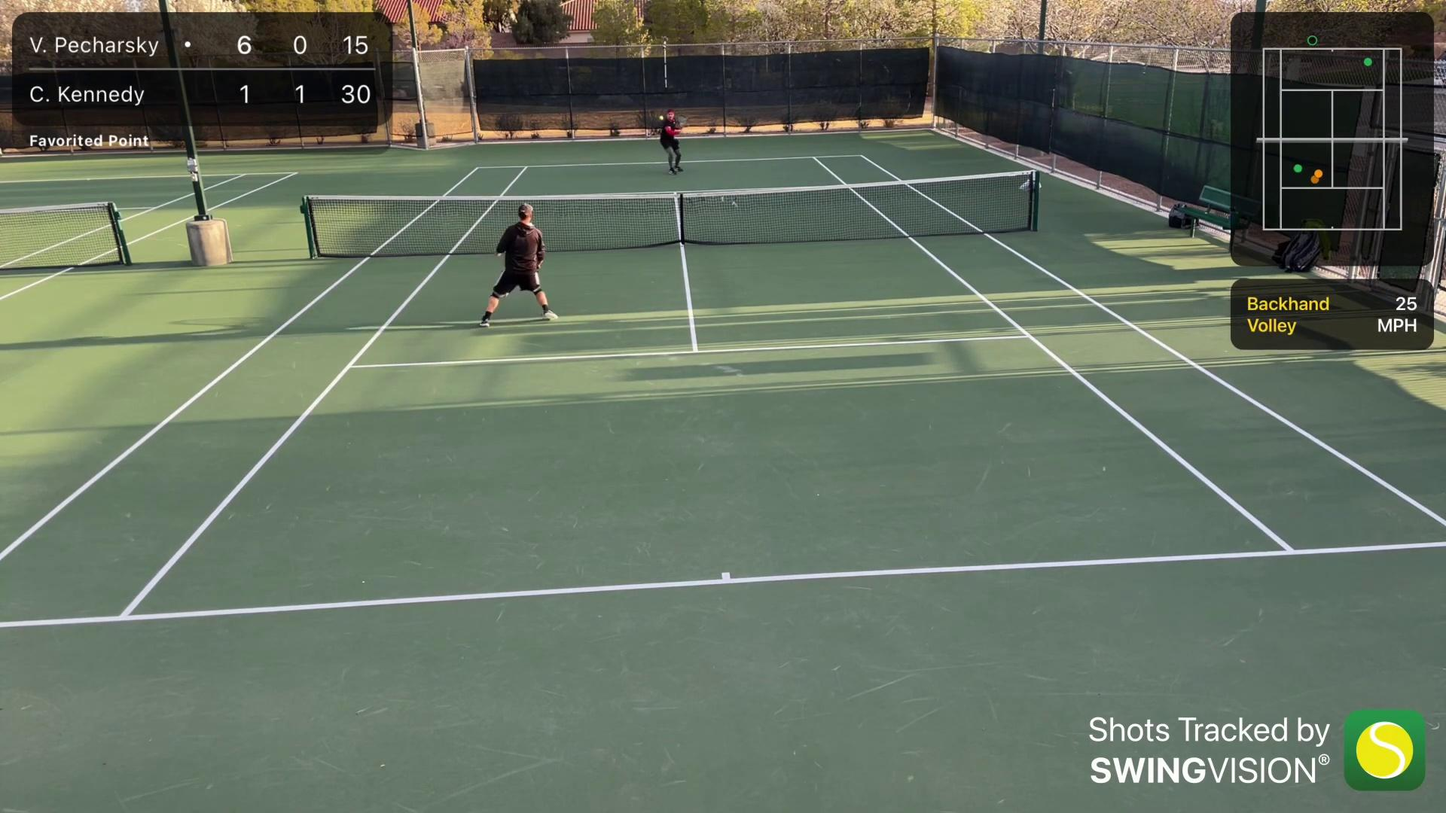ball: (1101, 463, 1110, 474), (657, 113, 665, 122)
